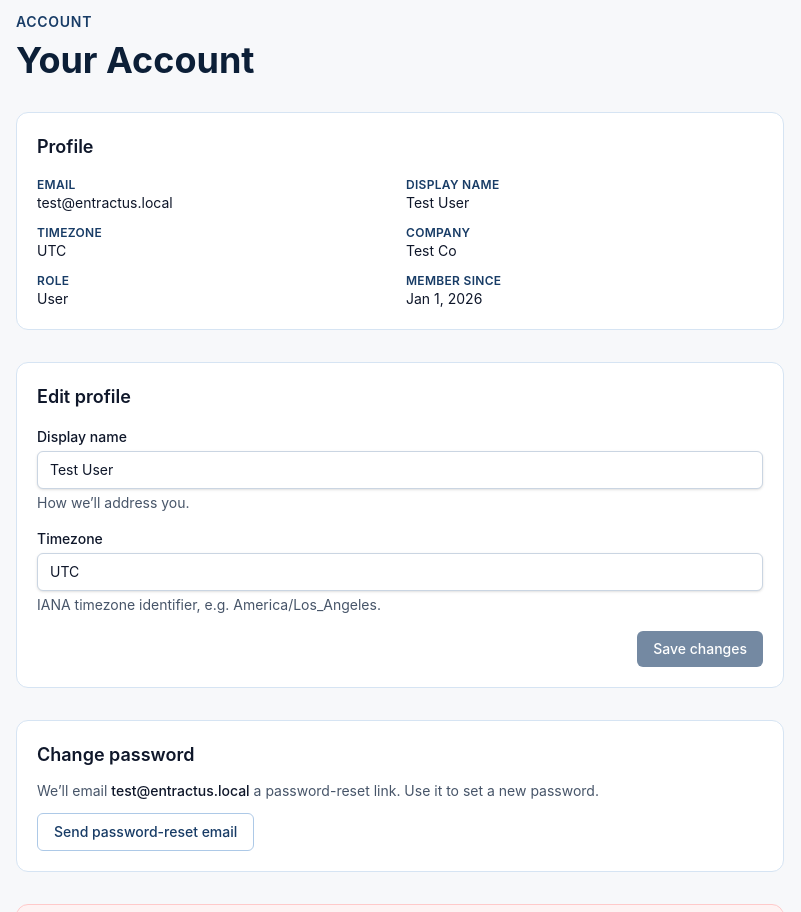
Test: <AccountPage /> — profile edit › disables Save while the form is pristine, then PATCHes only changed fields
This screenshot has width=801, height=912.
Expected: the button "Save changes" is disabled, [637,631,763,667]
Replace the text in the field labelled "Display name" with "New Name" at (400, 470), box [37,451,763,489]
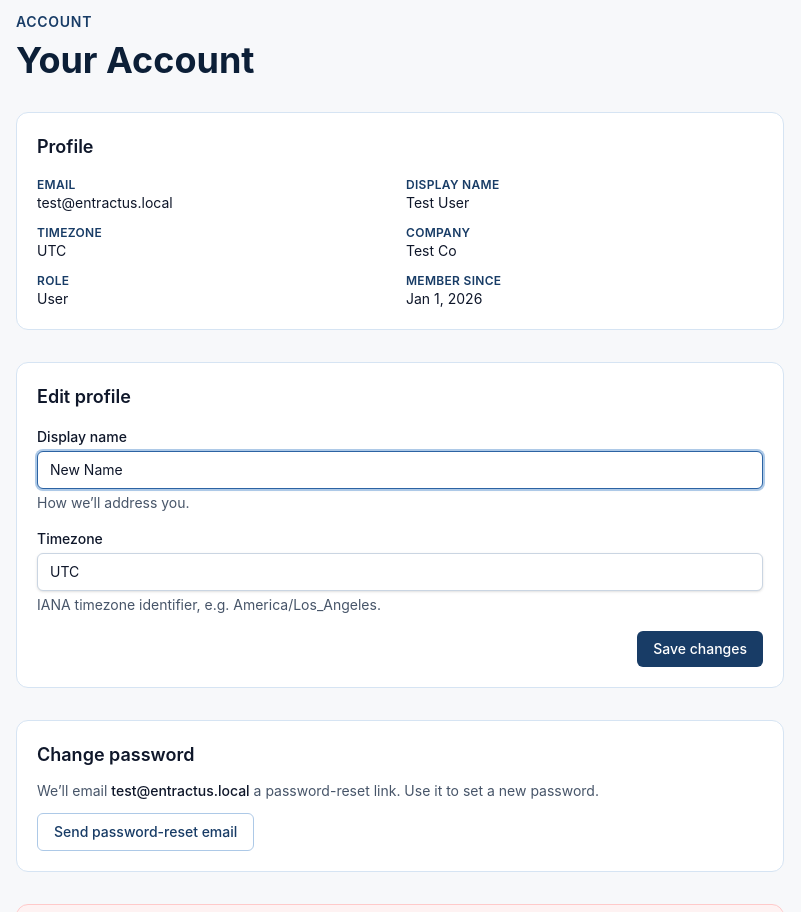
Result: the button "Save changes" is enabled
Click the button "Save changes" at (700, 649), box [637,631,763,667]
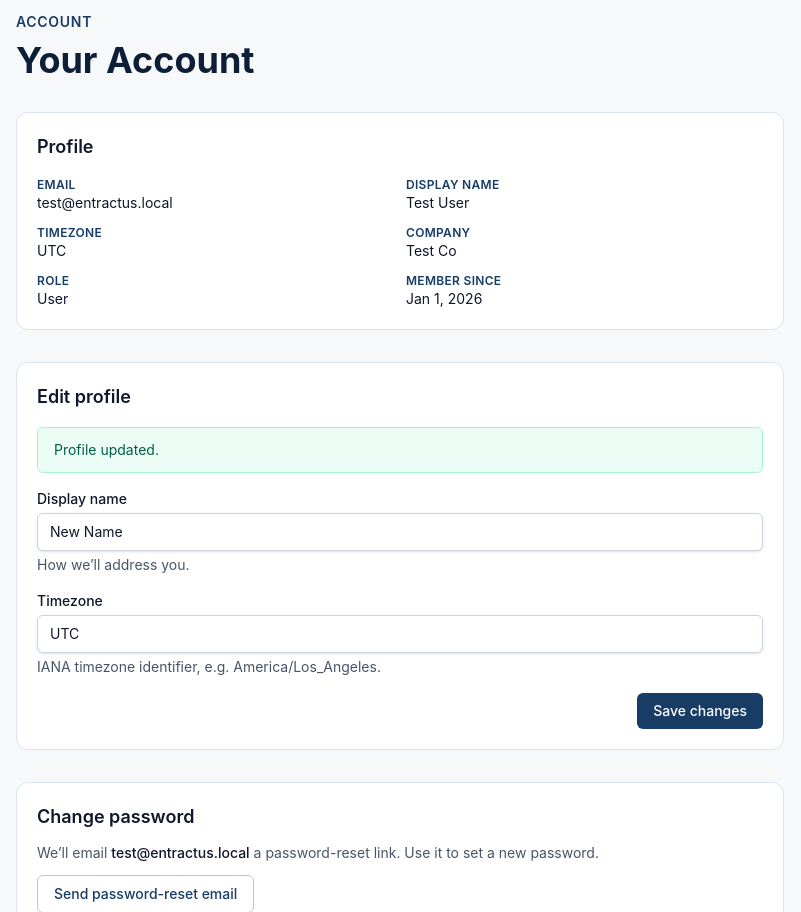
Result: the text "Profile updated." is shown at [37,427,763,473]
